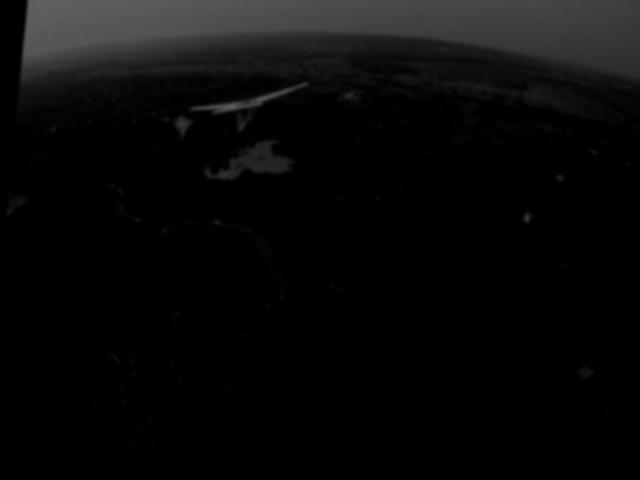hedef: (177, 63, 317, 157)
